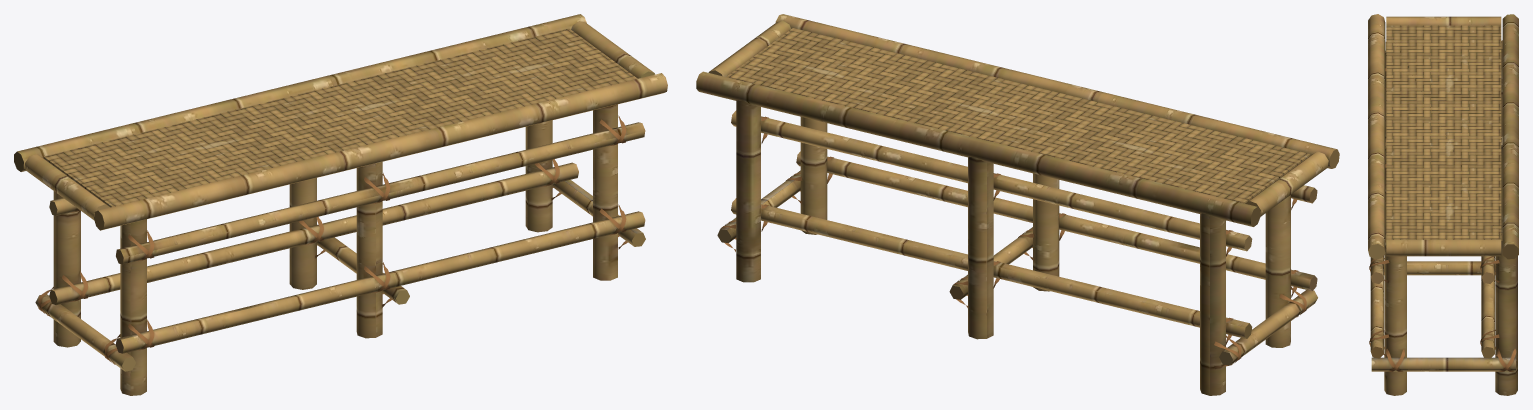
File: bench.glb
The picture shows the model from 3 angles, left to right: view 1: azimuth 30°, elevation 25°; view 2: azimuth 150°, elevation 25°; view 3: azimuth 270°, elevation 25°; orthographic projection. The views are drawn at different scales.
Visible parts, largest first — view 1: BenchLegs, BenchSeat; view 2: BenchLegs, BenchSeat; view 3: BenchSeat, BenchLegs.
Part boxes in pixels (<box>): BenchLegs: <box>14,14,667,395</box>; BenchSeat: <box>43,28,637,207</box>; BenchLegs: <box>696,14,1339,395</box>; BenchSeat: <box>726,28,1310,203</box>; BenchSeat: <box>1386,25,1501,239</box>; BenchLegs: <box>1368,14,1518,395</box>.
Bounding box in the file's own units: 0.86 × 0.29 × 0.2388.
Materials: 3 (2 with a texture image).
